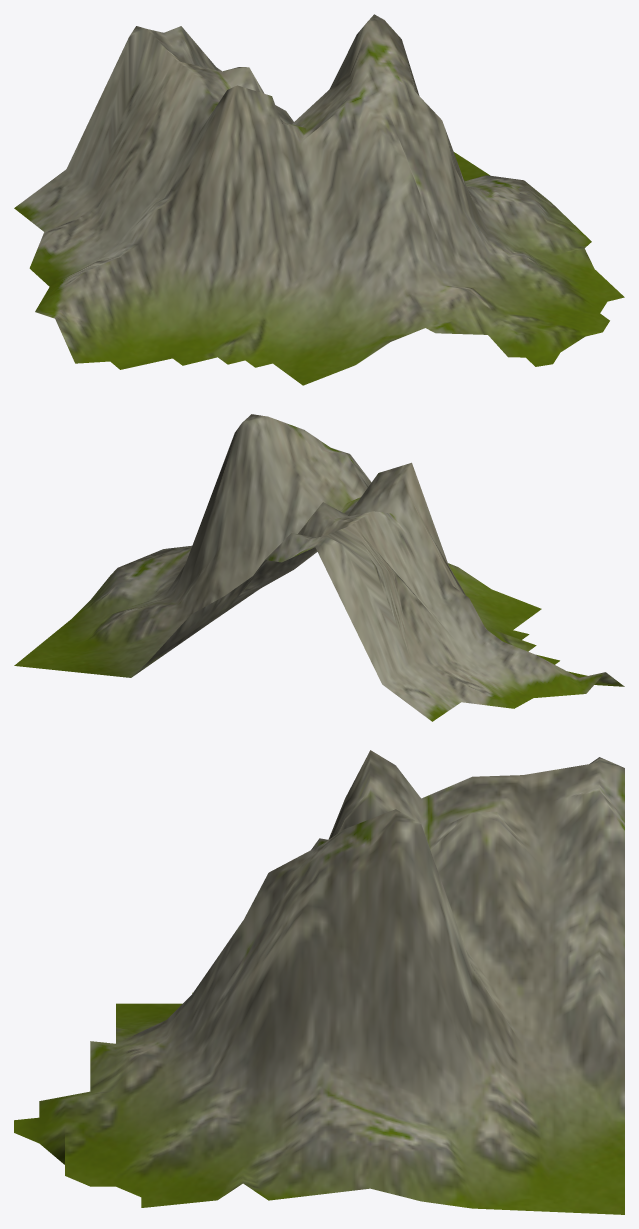
File: Terrain_12.fbx
3 renders of one model, top to bottom at view 1: azimuth 30°, elevation 25°; view 2: azimuth 150°, elevation 25°; view 3: azimuth 270°, elevation 25°, orthographic. The views are drawn at different scales.
Visible parts, largest first — view 1: Terrain_12; view 2: Terrain_12; view 3: Terrain_12.
Part boxes in pixels (x1,y1,x2,y2): Terrain_12: (14,14,624,385); Terrain_12: (14,414,624,721); Terrain_12: (14,750,624,1214).
Size of the model in its own units: 23.43 by 10.58 by 19.39.
